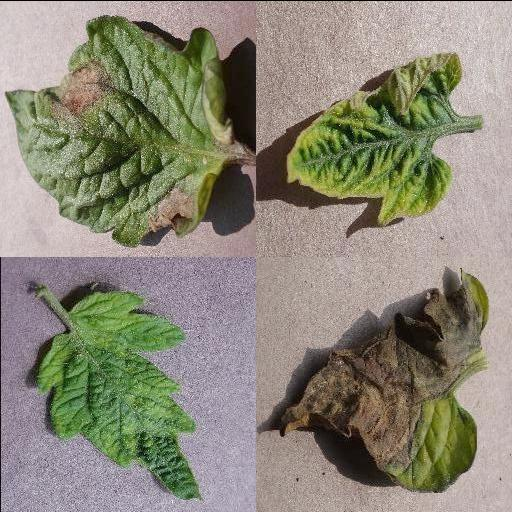Late Blight: (3, 13, 235, 247), (280, 266, 490, 492)
Mosaic Virus: (38, 289, 206, 503)
Yellow Leaf Curl Virus: (286, 50, 464, 226)
